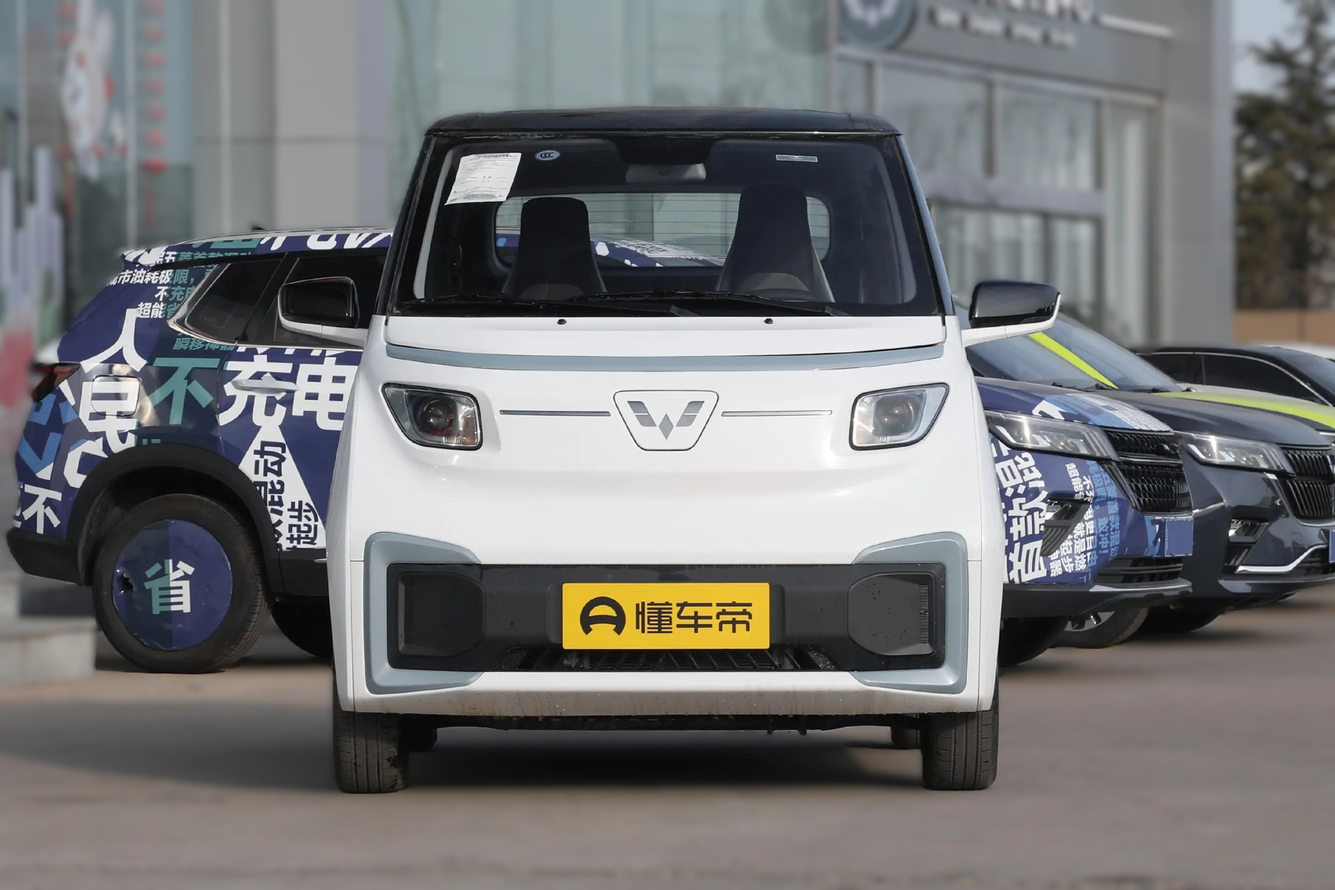SGMW: (627, 400, 704, 439)
